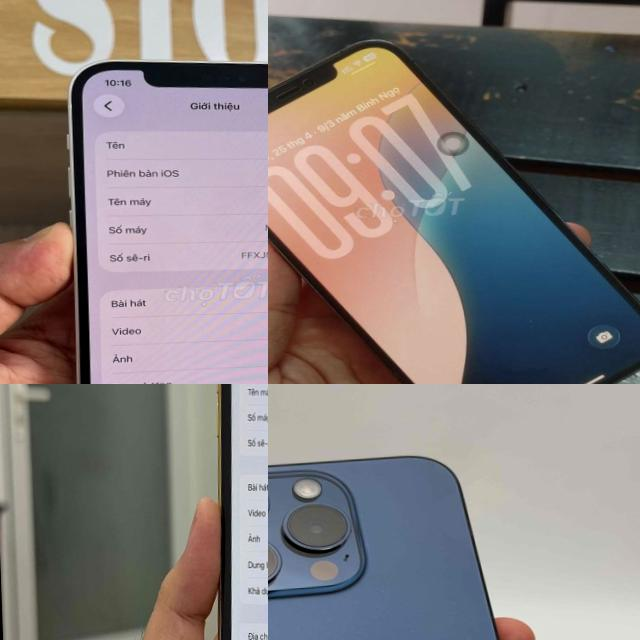gen_12_13: (268, 24, 640, 384), (59, 42, 268, 384)
gen_15: (268, 443, 570, 640)
